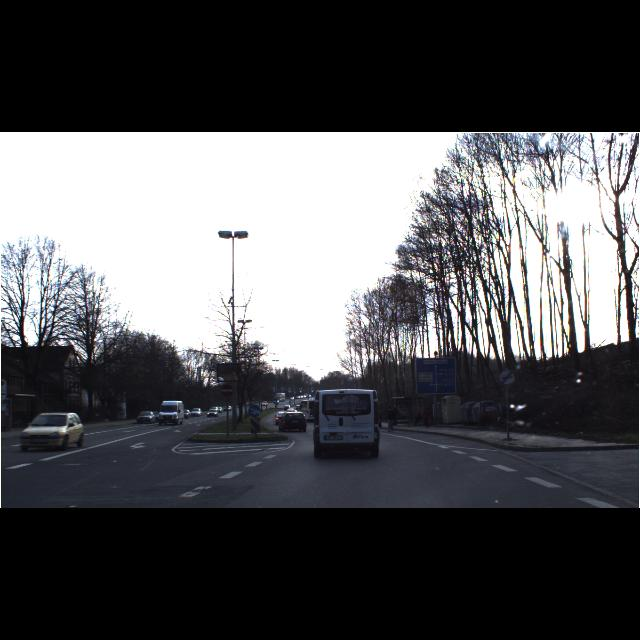mandatory: (248, 404, 260, 418)
other: (499, 369, 515, 385), (220, 384, 233, 398)
